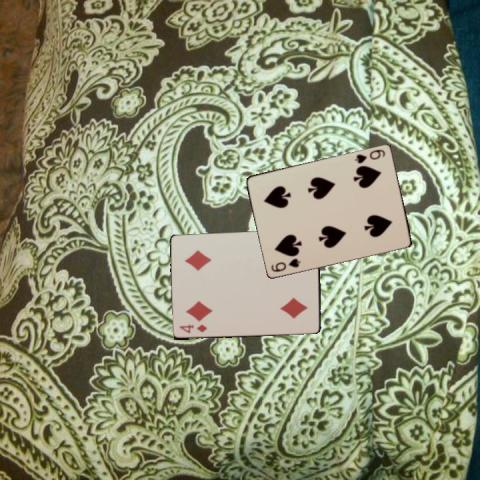4d: (176, 321, 209, 334)
6s: (352, 146, 387, 165), (268, 255, 302, 273)
